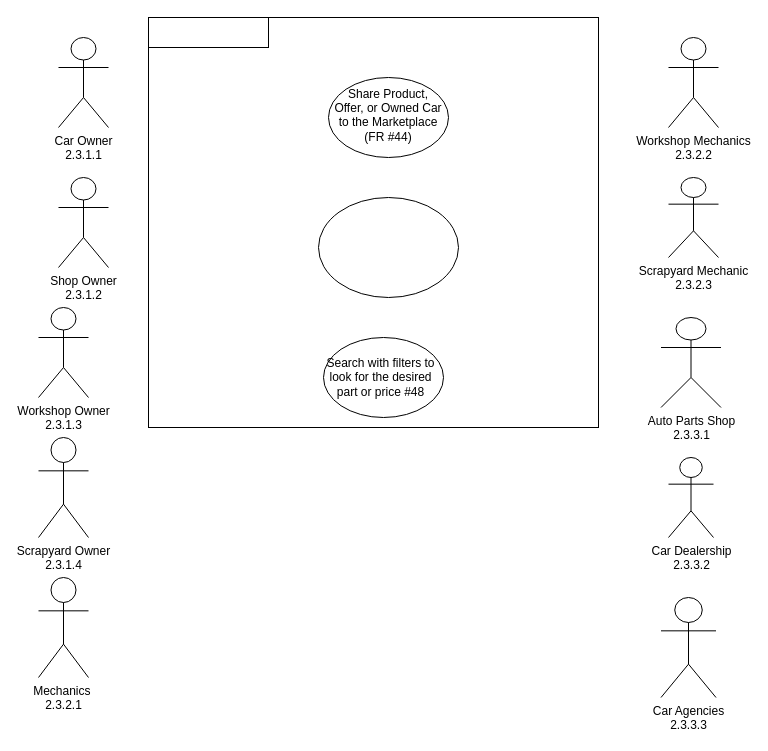
This 768x751 diagram has some shape labels left out. The shapes that lost their labels are listed below. From the top down, each one's centre as x and y in pixels, then its label:
point (208, 32): Marketplace
point (388, 247): Search with Filters to Look for Desired Parts or Service (FR #45)
